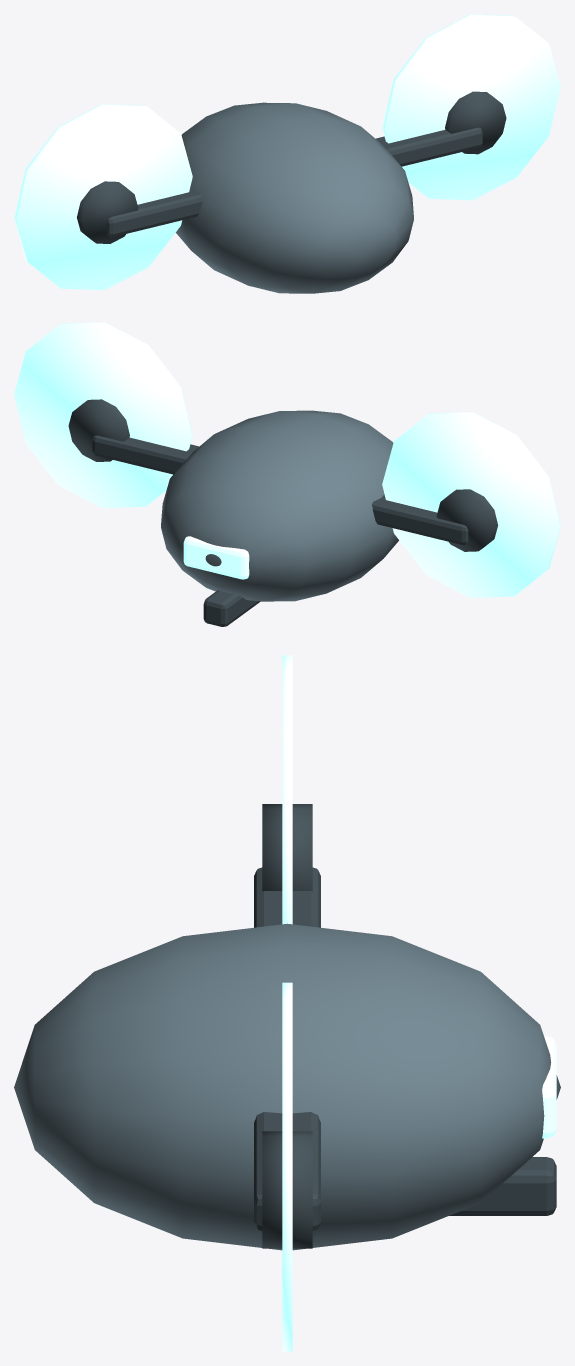
File: char_drone.glb
3 renders of one model, top to bottom at view 1: azimuth 30°, elevation 25°; view 2: azimuth 150°, elevation 25°; view 3: azimuth 270°, elevation 25°, orthographic. The views are drawn at different scales.
Visible parts, largest first — view 1: hull, disc, disc.001, hub, arm, hub.001, arm.001; view 2: hull, disc, disc.001, hub, arm, hub.001, arm.001, eye, gun; view 3: hull, hub.001, disc.001, hub, gun, disc, arm.001, arm, eye.
Part boxes in pixels (left/top/right/bottom): hull: left=176, top=102, right=413, bottom=293; disc: left=14, top=104, right=192, bottom=290; disc.001: left=382, top=14, right=560, bottom=200; hub: left=77, top=181, right=138, bottom=243; arm: left=106, top=186, right=202, bottom=237; hub.001: left=445, top=91, right=506, bottom=154; arm.001: left=376, top=127, right=482, bottom=166; hull: left=161, top=410, right=398, bottom=601; disc: left=382, top=412, right=560, bottom=597; disc.001: left=14, top=322, right=192, bottom=508; hub: left=436, top=489, right=497, bottom=551; arm: left=372, top=494, right=468, bottom=544; hub.001: left=68, top=399, right=129, bottom=461; arm.001: left=92, top=435, right=199, bottom=474; eye: left=183, top=536, right=249, bottom=579; gun: left=203, top=590, right=260, bottom=626; hull: left=14, top=923, right=560, bottom=1250; hub.001: left=262, top=1131, right=312, bottom=1248; disc.001: left=282, top=982, right=292, bottom=1351; hub: left=262, top=804, right=312, bottom=891; gun: left=449, top=1157, right=556, bottom=1215; disc: left=282, top=655, right=292, bottom=924; arm.001: left=254, top=1112, right=320, bottom=1230; arm: left=254, top=867, right=320, bottom=927; eye: left=542, top=1036, right=556, bottom=1138.
Size of the model in its own units: 1.36 by 0.512 by 0.65.
